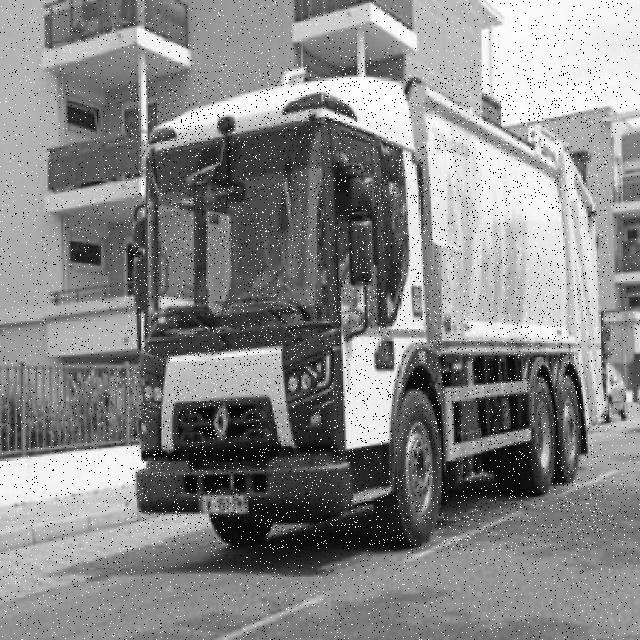Garbage Truck: (127, 65, 606, 550)
